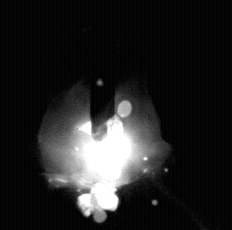arame: (90, 0, 115, 141)
poca: (37, 0, 166, 230)
